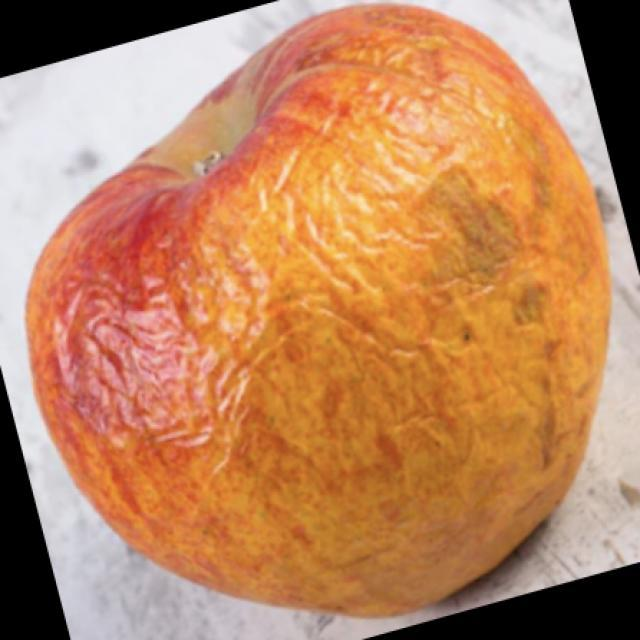Rotten: (60, 8, 587, 610)
